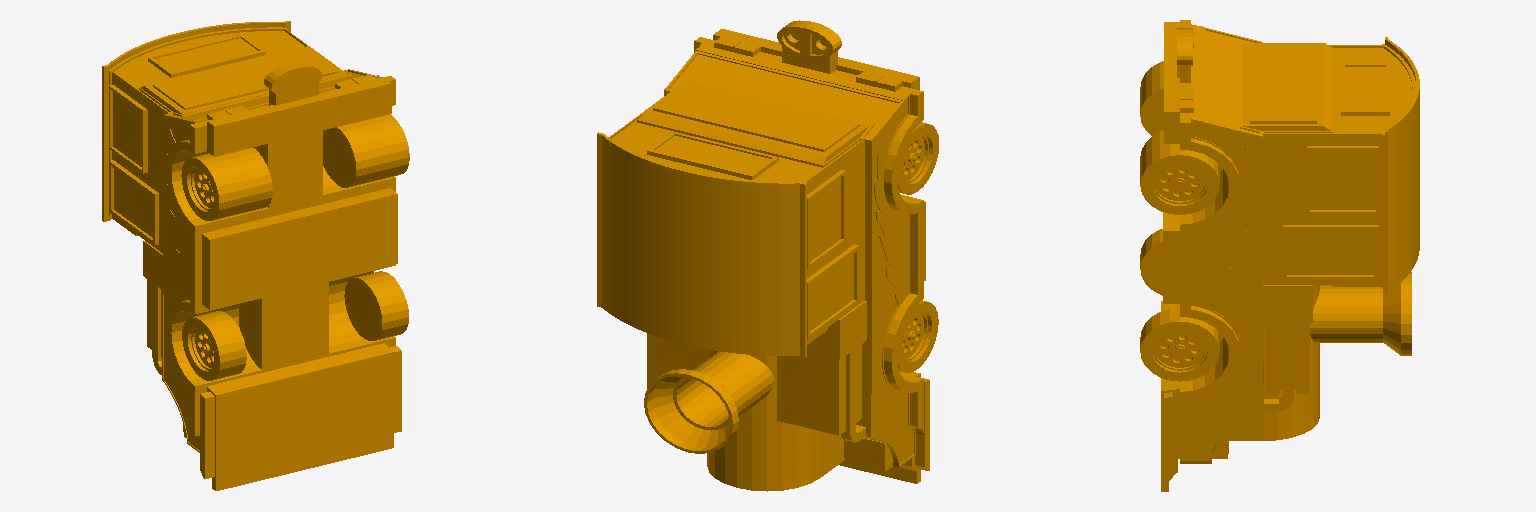
The robot description file, URDF, robot "04468005_553450a802f3ae6b33bba21b4e20708b":
<?xml version='1.0'?>

<robot name="04468005_553450a802f3ae6b33bba21b4e20708b">
    <static>false</static>
    <link name="link">
        <inertial>
            <mass value="0.08594479284133494"/>
            <inertia ixx="0.00019064204885284956" ixy="-5.755231663482251e-06" ixz="3.8368211089881674e-06"
                     iyy="6.714436940729293e-05" iyz="-3.4531389980893504e-05" izz="0.00014651860609948565"/>
        </inertial>
        <collision name="collision">
            <geometry>
                <mesh filename="package://miscnet/train/04468005_553450a802f3ae6b33bba21b4e20708b/collision_model_vhacd.obj"/>
            </geometry>
        </collision>
        <visual name="visual">
            <geometry>
                <mesh filename="package://miscnet/train/04468005_553450a802f3ae6b33bba21b4e20708b/visual_model.obj"/>
            </geometry>
        </visual>
    </link>
</robot>

--- Render facts (derived) ---
The picture shows the robot from 3 angles, left to right: view 1: azimuth 30°, elevation 25°; view 2: azimuth 150°, elevation 25°; view 3: azimuth 270°, elevation 25°; orthographic projection.
Robot: 04468005_553450a802f3ae6b33bba21b4e20708b — 1 links, 0 joints (none); root link link; default pose: all joints at 0.
Visible links, largest first — view 1: link; view 2: link; view 3: link.
Link boxes in pixels (box(x1,y1,x2,y2)): link: box(102, 21, 409, 490); link: box(597, 20, 938, 491); link: box(1140, 20, 1419, 491).
Bounding box of the posed robot: 0.066 × 0.0762 × 0.1243 m (x, y, z).
1 mesh visuals loaded from 1 distinct referenced files (1 OBJ).
